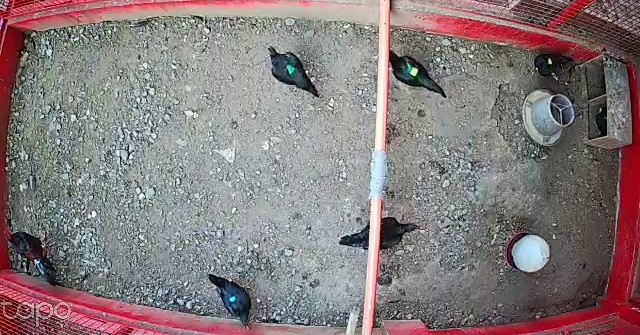Chicken: (384, 42, 448, 99), (337, 211, 419, 255), (266, 42, 322, 98), (208, 271, 258, 333), (535, 52, 571, 82)
Rooster: (1, 225, 62, 288)
Saddle_Color_Blue: (229, 297, 237, 301)
Saddle_Color_Yellow: (547, 59, 554, 66)
Saddle_Color_YellowGreen: (406, 64, 420, 76)
